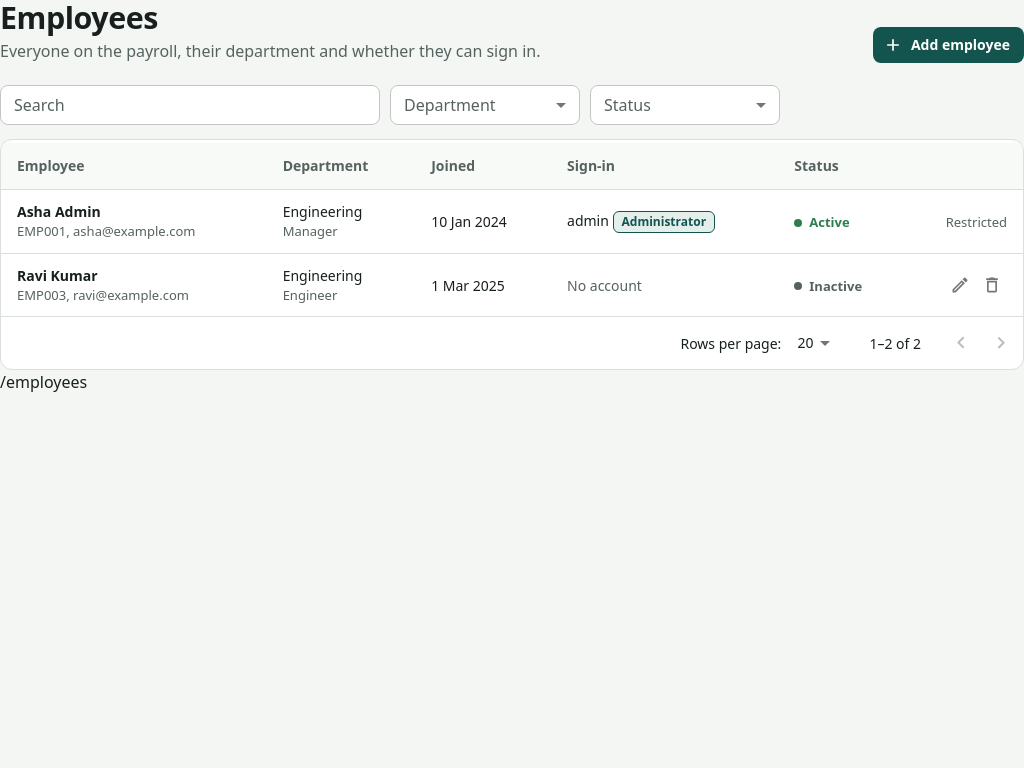
Test: EmployeesPage › asks for confirmation before deleting
Click the button named "Delete Ravi Kumar" at (992, 285), box [977,270,1007,300]
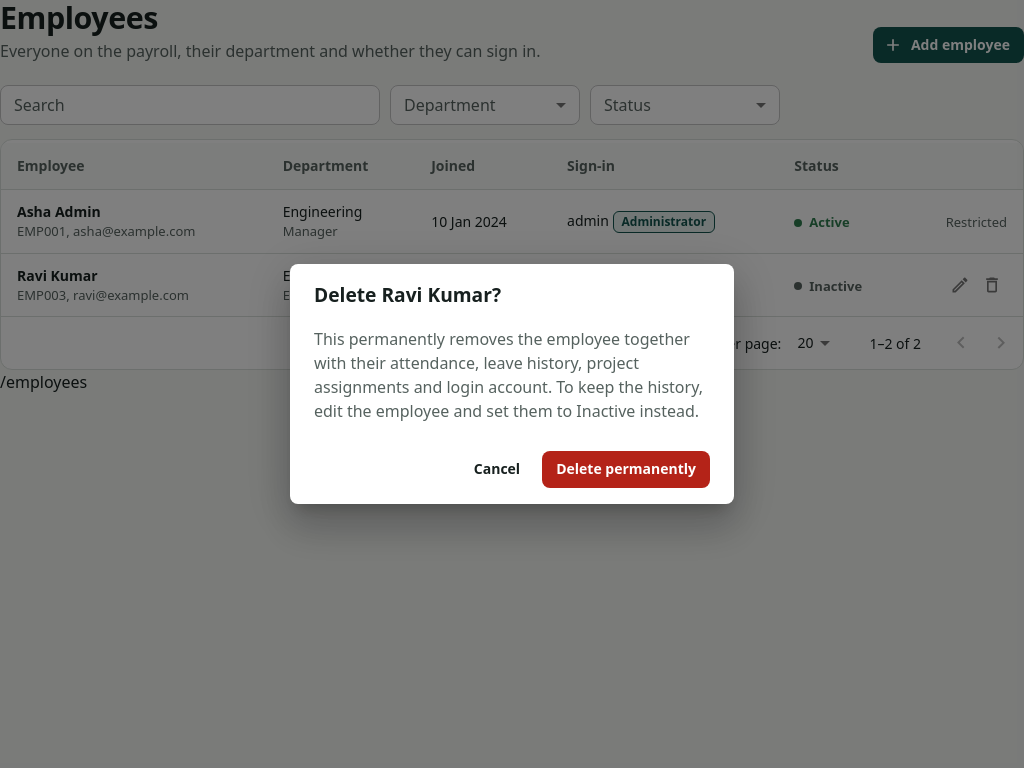
Now the dialog shows "set them to Inactive instead", box [314,328,703,422]
Click the button "Delete permanently" at (626, 469), box [542,451,710,488]
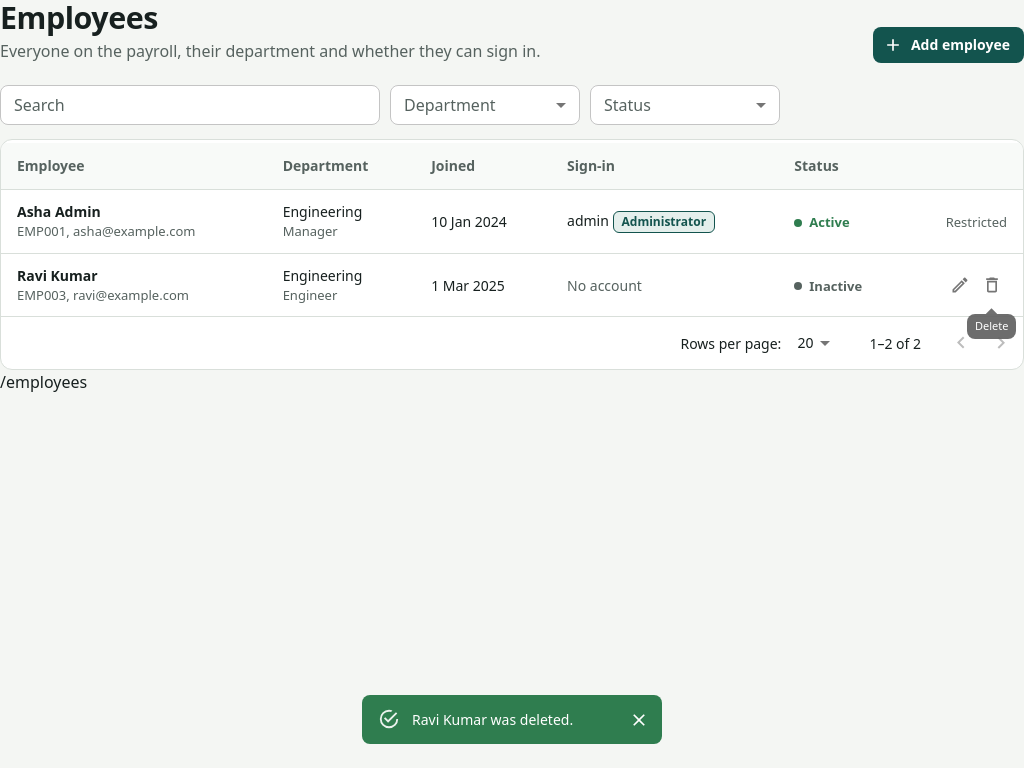
Now the text "Ravi Kumar was deleted." is shown, box [412,710,573,729]
